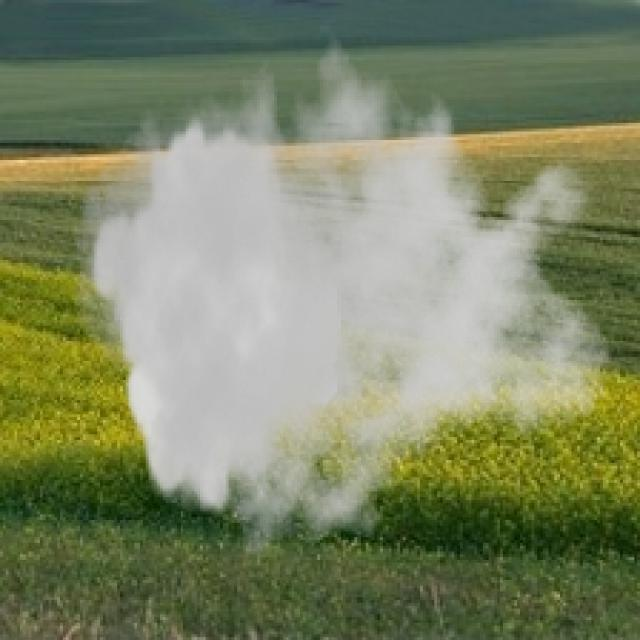smoke: (71, 11, 614, 568)
